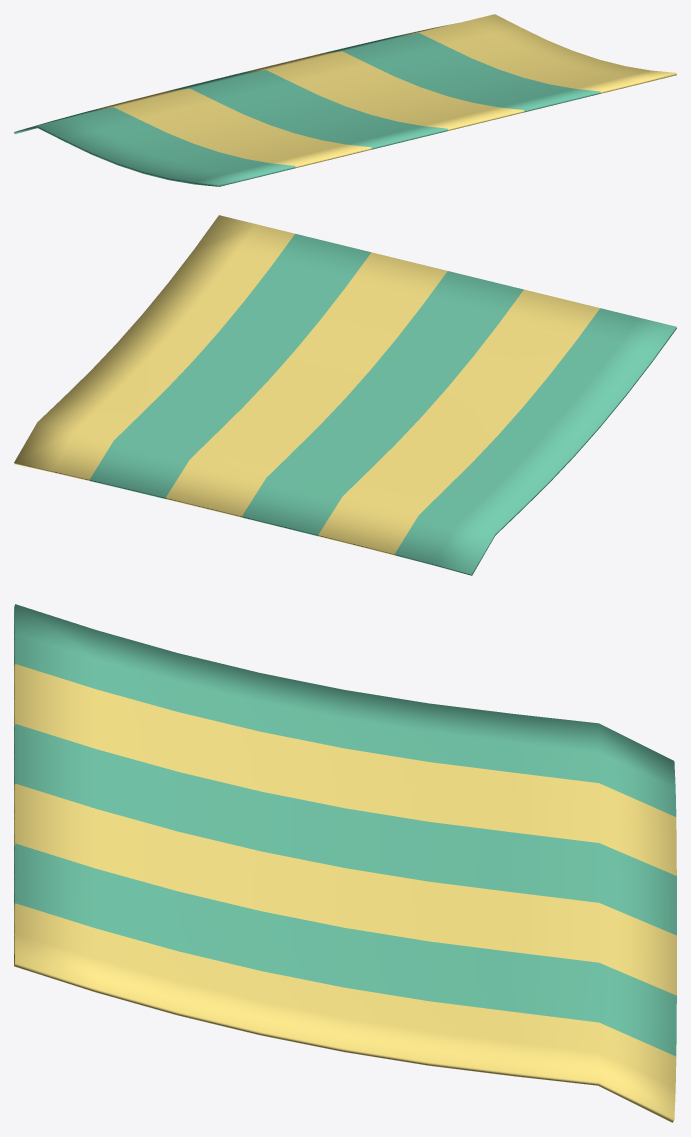
Rendered from awning_cloth_teal.glb.
3 renders of one model, top to bottom at view 1: azimuth 30°, elevation 25°; view 2: azimuth 150°, elevation 25°; view 3: azimuth 270°, elevation 25°, orthographic. The views are drawn at different scales.
Parts seen in each view (by area): view 1: awning_cloth_teal; view 2: awning_cloth_teal; view 3: awning_cloth_teal.
Part boxes in pixels (box(x1,y1,x2,y2)): awning_cloth_teal: box(14, 14, 676, 186); awning_cloth_teal: box(14, 215, 676, 575); awning_cloth_teal: box(14, 604, 676, 1122).
Bounding box in the file's own units: 3.5 × 0.7274 × 2.73.
